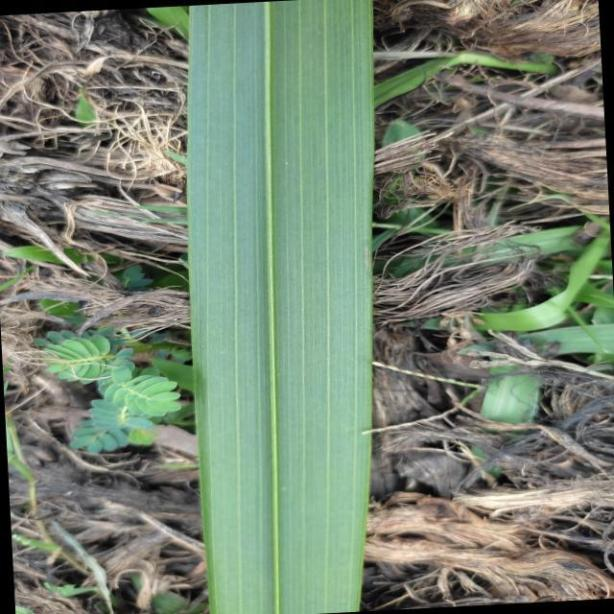Healthy: (189, 6, 374, 614)
